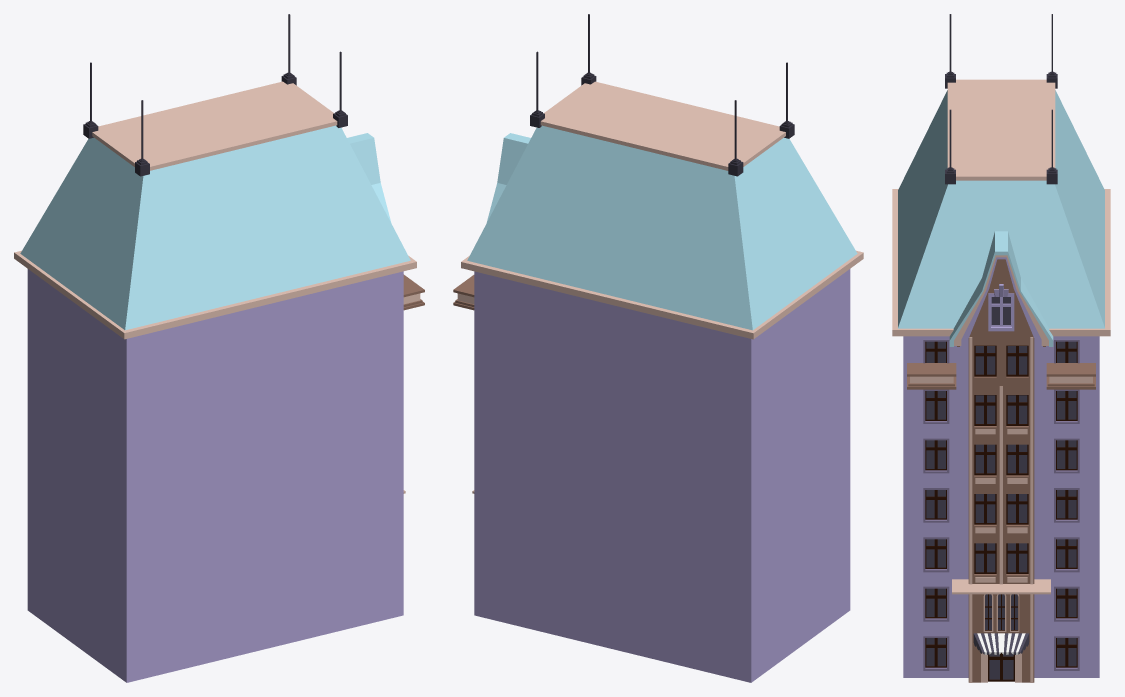
Rendered from Building8.fbx.
3 views of the same model, side by side, from view 1: azimuth 30°, elevation 25°; view 2: azimuth 150°, elevation 25°; view 3: azimuth 270°, elevation 25° (orthographic).
Visible parts, largest first — view 1: Plane.053, Plane.047, Plane.046, Plane.048, Plane.050, Plane.051, Plane.049, Plane.052; view 2: Plane.053, Plane.047, Plane.046, Plane.050, Plane.051, Plane.048, Plane.049, Plane.052; view 3: Plane.053, Plane.049, Plane.048, Plane.050, Plane.046, Plane.052, Plane.047, Plane.051, Plane.054.
Boxes of the visible parts, <box> form: Plane.053: <box>14,14,416,339</box>; Plane.047: <box>27,490,405,632</box>; Plane.046: <box>27,561,403,682</box>; Plane.048: <box>27,461,403,582</box>; Plane.050: <box>27,361,403,482</box>; Plane.051: <box>27,311,403,432</box>; Plane.049: <box>27,411,403,532</box>; Plane.052: <box>27,269,424,383</box>; Plane.053: <box>461,14,863,339</box>; Plane.047: <box>472,490,850,632</box>; Plane.046: <box>474,561,850,682</box>; Plane.050: <box>474,361,850,482</box>; Plane.051: <box>474,311,850,433</box>; Plane.048: <box>474,461,850,582</box>; Plane.049: <box>474,411,850,532</box>; Plane.052: <box>453,269,850,383</box>; Plane.053: <box>892,14,1110,346</box>; Plane.049: <box>903,480,1099,534</box>; Plane.048: <box>903,530,1099,584</box>; Plane.050: <box>903,431,1099,485</box>; Plane.046: <box>903,628,1099,682</box>; Plane.052: <box>903,336,1099,389</box>; Plane.047: <box>903,579,1099,633</box>; Plane.051: <box>903,382,1099,435</box>; Plane.054: <box>983,594,1019,631</box>.
Bounding box in the file's own units: 3332 × 5562 × 2002.
